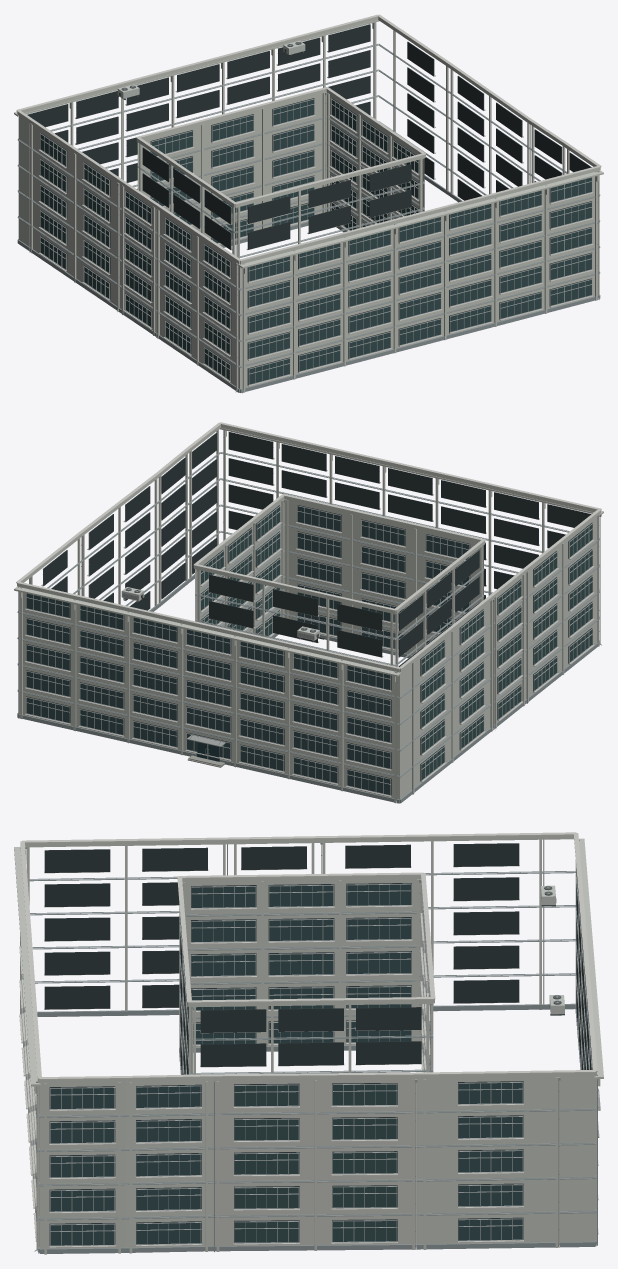
Rendered from osm_way_223699451.glb.
3 views of the same model, one above another, from view 1: azimuth 30°, elevation 25°; view 2: azimuth 150°, elevation 25°; view 3: azimuth 270°, elevation 25° (orthographic). The views are drawn at different scales.
Visible parts, largest first — view 1: Windows and facade details | 教1, Architecture | 教1, Roof services | 教1, EXTERIOR::osm_way_223699451::rainwater and roof service deta; view 2: Windows and facade details | 教1, Architecture | 教1, Roof services | 教1, EXTERIOR::osm_way_223699451::rainwater and roof service deta, EXTERIOR::osm_way_223699451::inferred entry doors canopy and; view 3: Windows and facade details | 教1, Architecture | 教1, Roof services | 教1, EXTERIOR::osm_way_223699451::rainwater and roof service deta.
Boxes of the visible parts, <box> form: Windows and facade details | 教1: <box>27,22,593,393</box>; Architecture | 教1: <box>17,17,600,392</box>; Roof services | 教1: <box>14,14,603,273</box>; EXTERIOR::osm_way_223699451::rainwater and roof service deta: <box>113,40,599,392</box>; Windows and facade details | 教1: <box>18,432,594,797</box>; Architecture | 教1: <box>17,424,600,803</box>; Roof services | 教1: <box>14,422,603,682</box>; EXTERIOR::osm_way_223699451::rainwater and roof service deta: <box>29,499,601,803</box>; EXTERIOR::osm_way_223699451::inferred entry doors canopy and: <box>186,732,225,767</box>; Windows and facade details | 教1: <box>19,839,598,1252</box>; Architecture | 教1: <box>20,835,597,1254</box>; Roof services | 教1: <box>14,832,603,1093</box>; EXTERIOR::osm_way_223699451::rainwater and roof service deta: <box>25,839,579,1251</box>.
Size of the model in its own units: 57.44 by 19.88 by 57.97.
